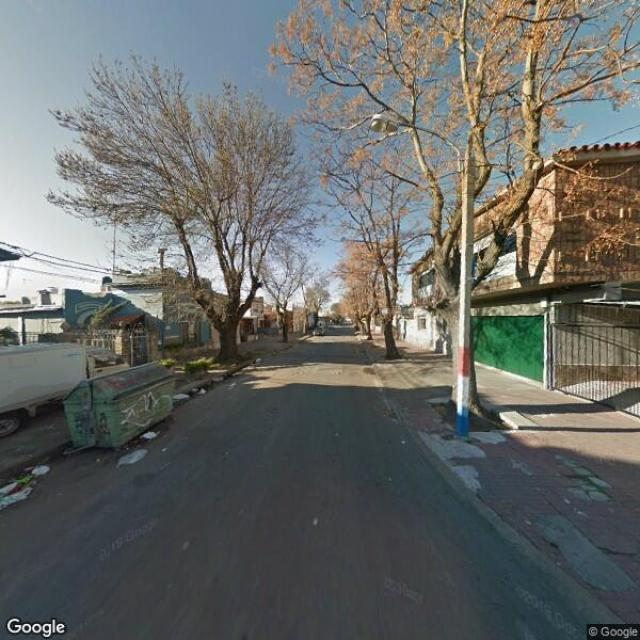garbage container: (58, 358, 185, 465)
